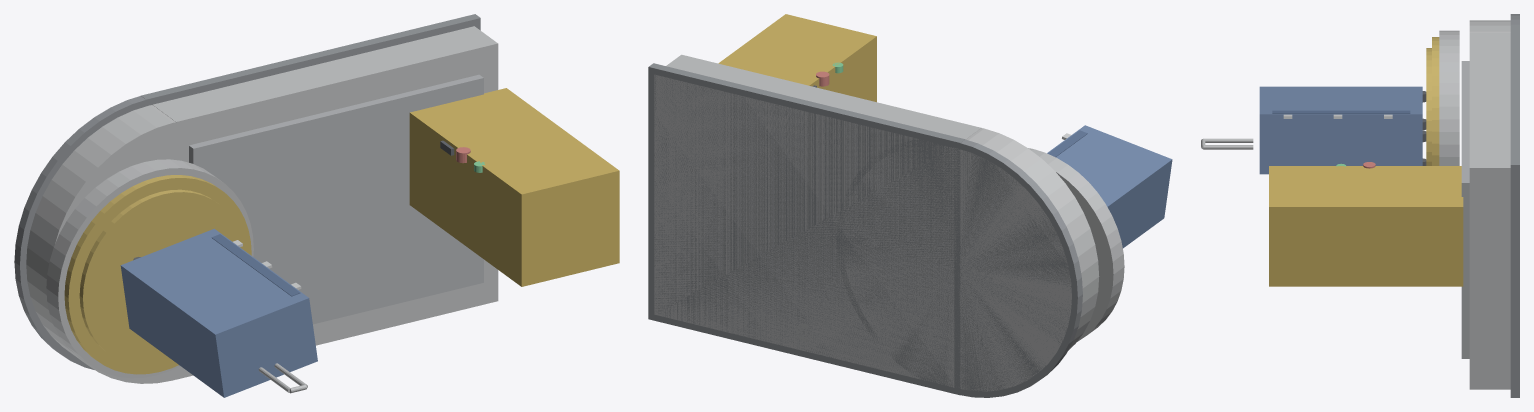
Rendered from Đóng gói hành lý.glb.
3 views of the same model, side by side, from view 1: azimuth 30°, elevation 25°; view 2: azimuth 150°, elevation 25°; view 3: azimuth 270°, elevation 25° (orthographic). The views are drawn at different scales.
Parts seen in each view (by area): view 1: base_structure, machine_cabinet, rotating_platform, suitcase; view 2: base_structure, machine_cabinet, suitcase, rotating_platform; view 3: machine_cabinet, base_structure, suitcase, rotating_platform.
Boxes of the visible parts, x1,y1,x2,y2 form: base_structure: (14,14,498,383); machine_cabinet: (409,88,619,286); rotating_platform: (46,159,253,378); suitcase: (120,228,317,397); base_structure: (648,54,1099,397); machine_cabinet: (718,14,876,102); suitcase: (1047,125,1172,248); rotating_platform: (1028,148,1124,341); machine_cabinet: (1269,162,1463,286); base_structure: (1461,14,1519,397); suitcase: (1201,86,1426,174); rotating_platform: (1426,30,1459,165).
Size of the model in its own units: 1.47 by 0.82 by 1.02.
